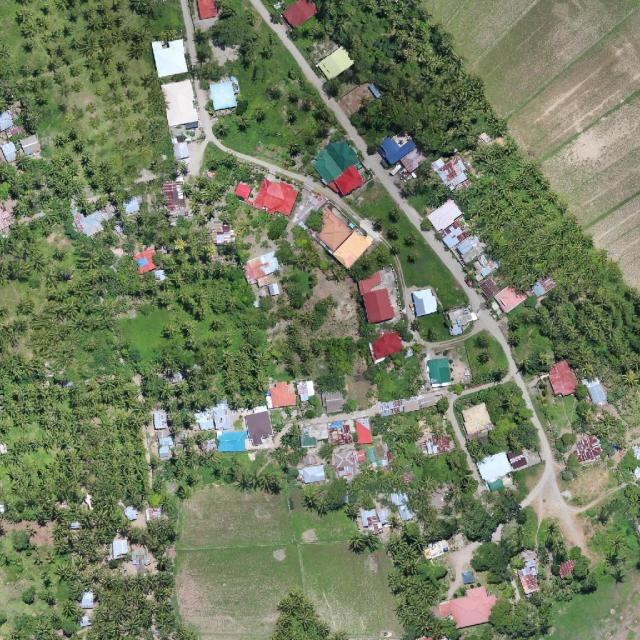building: (159, 165, 444, 438)
greenland: (434, 119, 640, 404), (181, 22, 358, 202), (231, 223, 366, 417), (373, 215, 470, 325), (454, 580, 567, 640), (468, 535, 541, 593), (541, 526, 589, 574), (209, 15, 255, 50)
unmetalled_road: (495, 410, 586, 559), (474, 307, 530, 395), (509, 367, 536, 408), (406, 208, 423, 229)
